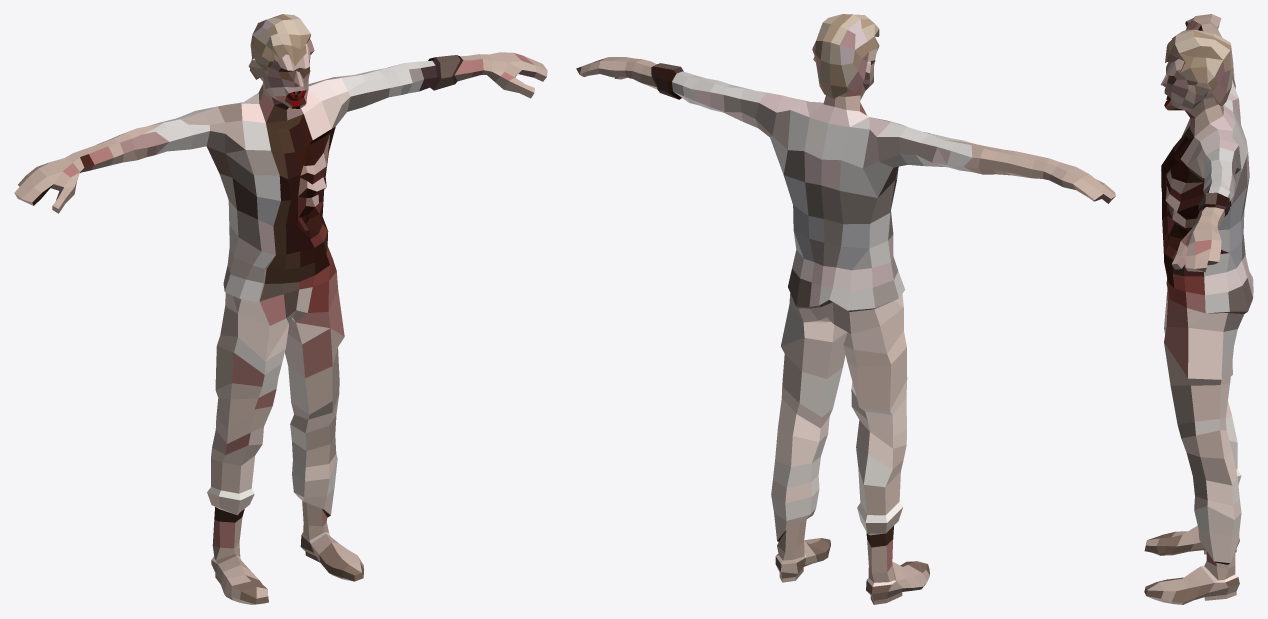
Rendered from lpMale_zombie_B-model.fbx.
3 renders of one model, left to right at view 1: azimuth 30°, elevation 25°; view 2: azimuth 150°, elevation 25°; view 3: azimuth 270°, elevation 25°, orthographic. The views are drawn at different scales.
Visible parts, largest first — view 1: lpMale_zombie_B, acc_men_hair_brown; view 2: lpMale_zombie_B, acc_men_hair_brown; view 3: lpMale_zombie_B, acc_men_hair_brown.
Part boxes in pixels (<box>): lpMale_zombie_B: <box>14,43,547,604</box>; acc_men_hair_brown: <box>250,14,314,79</box>; lpMale_zombie_B: <box>576,56,1115,604</box>; acc_men_hair_brown: <box>812,14,879,98</box>; lpMale_zombie_B: <box>1144,14,1253,604</box>; acc_men_hair_brown: <box>1165,29,1233,105</box>.
Bounding box in the file's own units: 182 × 184 × 33.5.
1 material, 1 textured.
